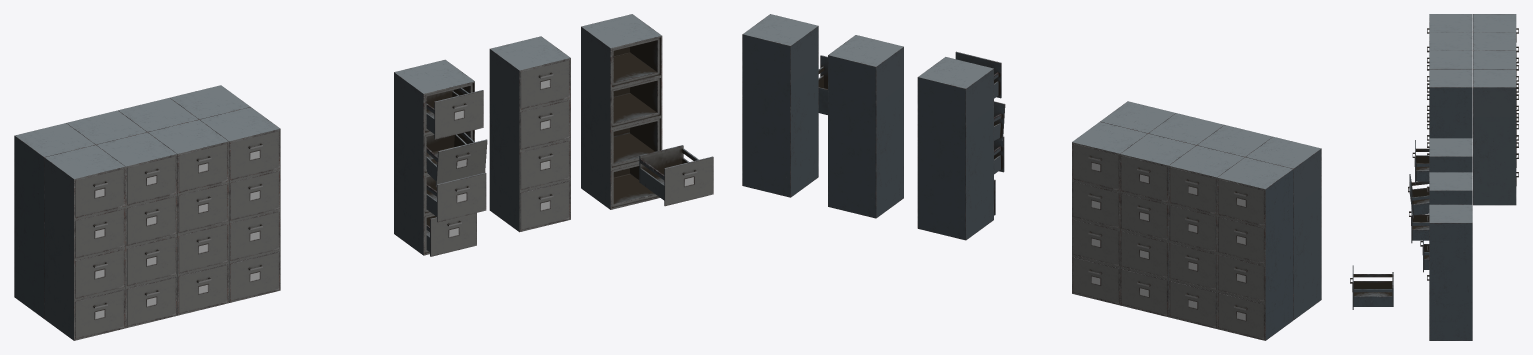
The model's file is filing_cabinet.glb.
3 renders of one model, left to right at view 1: azimuth 30°, elevation 25°; view 2: azimuth 150°, elevation 25°; view 3: azimuth 270°, elevation 25°, orthographic. The views are drawn at different scales.
Parts seen in each view (by area): view 1: box_2, box_1, box_6, box, box_5, box_4, box_3, box_10, box_7, box_9, box_8; view 2: box_1, box_2, box_10, box, box_8, box_9, box_7, box_6, box_4, box_3, box_5; view 3: box_2, box_7, box_1, box_3, box, box_8, box_4, box_9, box_10, box_5, box_6.
Boxes of the visible parts, x1=… form: box_2: x1=581, y1=14, x2=713, y2=209; box_1: x1=394, y1=59, x2=487, y2=256; box_6: x1=44, y1=145, x2=125, y2=340; box: x1=489, y1=36, x2=570, y2=232; box_5: x1=96, y1=132, x2=177, y2=328; box_4: x1=148, y1=119, x2=228, y2=315; box_3: x1=200, y1=107, x2=280, y2=302; box_10: x1=14, y1=123, x2=95, y2=318; box_7: x1=170, y1=85, x2=250, y2=119; box_9: x1=66, y1=110, x2=146, y2=144; box_8: x1=118, y1=98, x2=198, y2=132; box_1: x1=917, y1=51, x2=1005, y2=240; box_2: x1=742, y1=14, x2=827, y2=197; box_10: x1=1217, y1=157, x2=1293, y2=340; box: x1=828, y1=35, x2=903, y2=218; box_8: x1=1120, y1=133, x2=1196, y2=317; box_9: x1=1169, y1=145, x2=1244, y2=328; box_7: x1=1072, y1=122, x2=1147, y2=305; box_6: x1=1245, y1=136, x2=1321, y2=320; box_4: x1=1148, y1=113, x2=1224, y2=145; box_3: x1=1100, y1=101, x2=1175, y2=133; box_5: x1=1197, y1=125, x2=1272, y2=156; box_2: x1=1350, y1=204, x2=1472, y2=340; box_7: x1=1473, y1=69, x2=1518, y2=205; box_1: x1=1408, y1=138, x2=1472, y2=272; box_3: x1=1427, y1=69, x2=1472, y2=147; box: x1=1427, y1=172, x2=1472, y2=280; box_8: x1=1473, y1=50, x2=1518, y2=167; box_4: x1=1427, y1=50, x2=1472, y2=155; box_9: x1=1473, y1=32, x2=1518, y2=145; box_10: x1=1473, y1=14, x2=1518, y2=127; box_5: x1=1427, y1=32, x2=1472, y2=140; box_6: x1=1427, y1=14, x2=1472, y2=122.
Size of the model in its own units: 4.57 by 1.2 by 1.56.
1 material, 1 textured.
